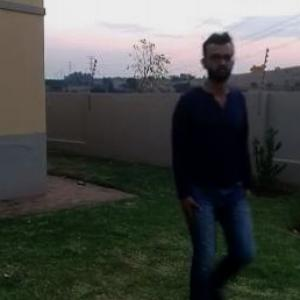follow: (168, 28, 252, 299)
